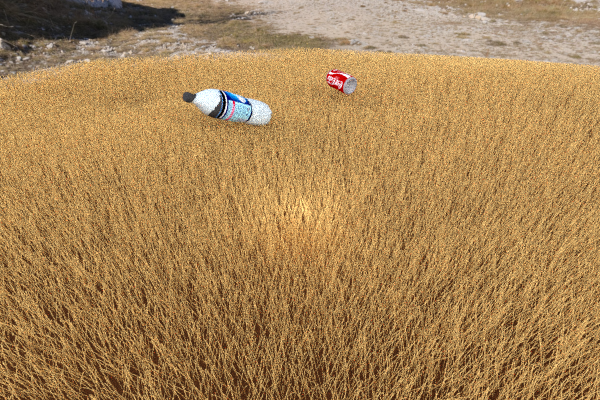Plastic Bottle: (182, 88, 272, 126), (325, 69, 357, 94)
